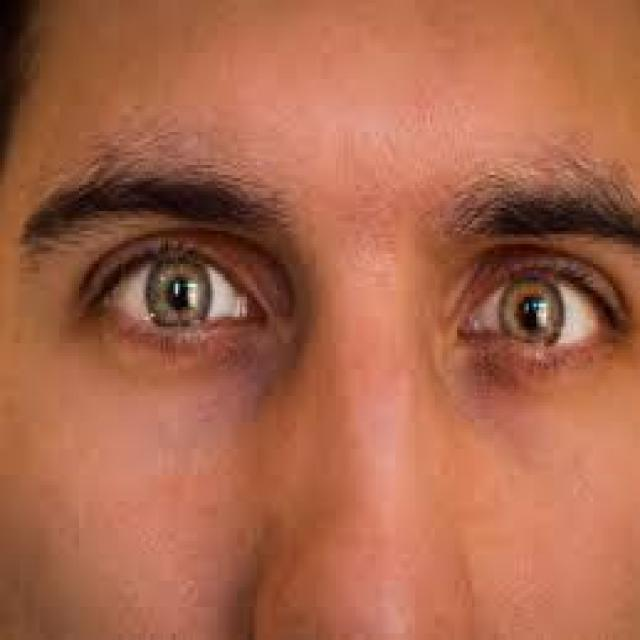Eyes-iris: (143, 250, 213, 338), (496, 269, 566, 357)
